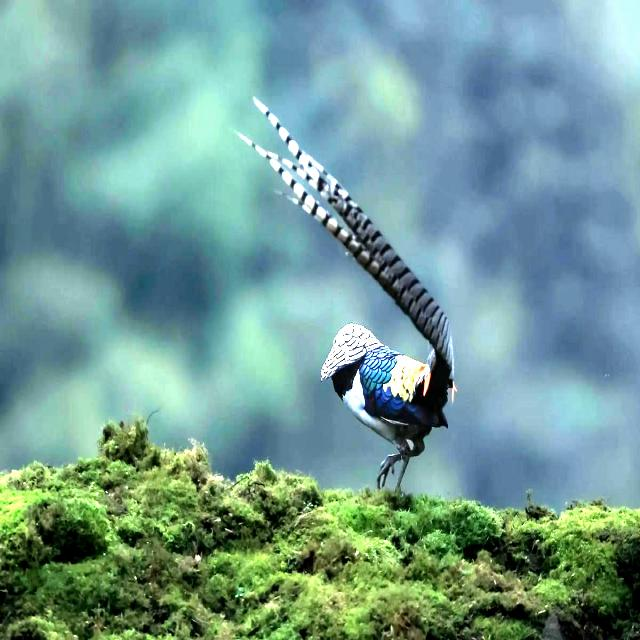Chrysolophus amherstiae: (242, 100, 453, 386)
